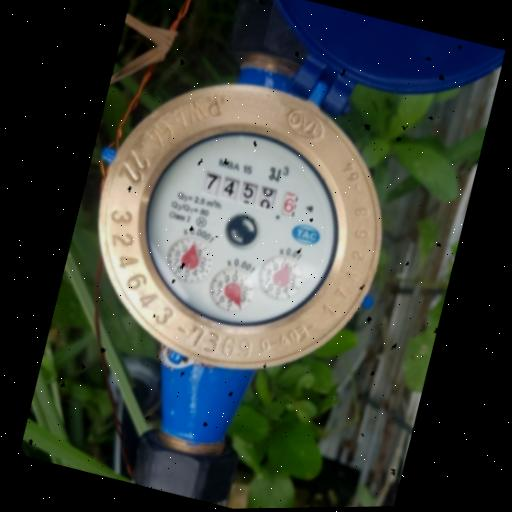4: (220, 177, 240, 201)
5: (239, 181, 258, 206)
6: (279, 190, 299, 216)
7: (201, 172, 221, 196)
8: (258, 186, 277, 210)
border_water_meter_number: (198, 168, 300, 219)
